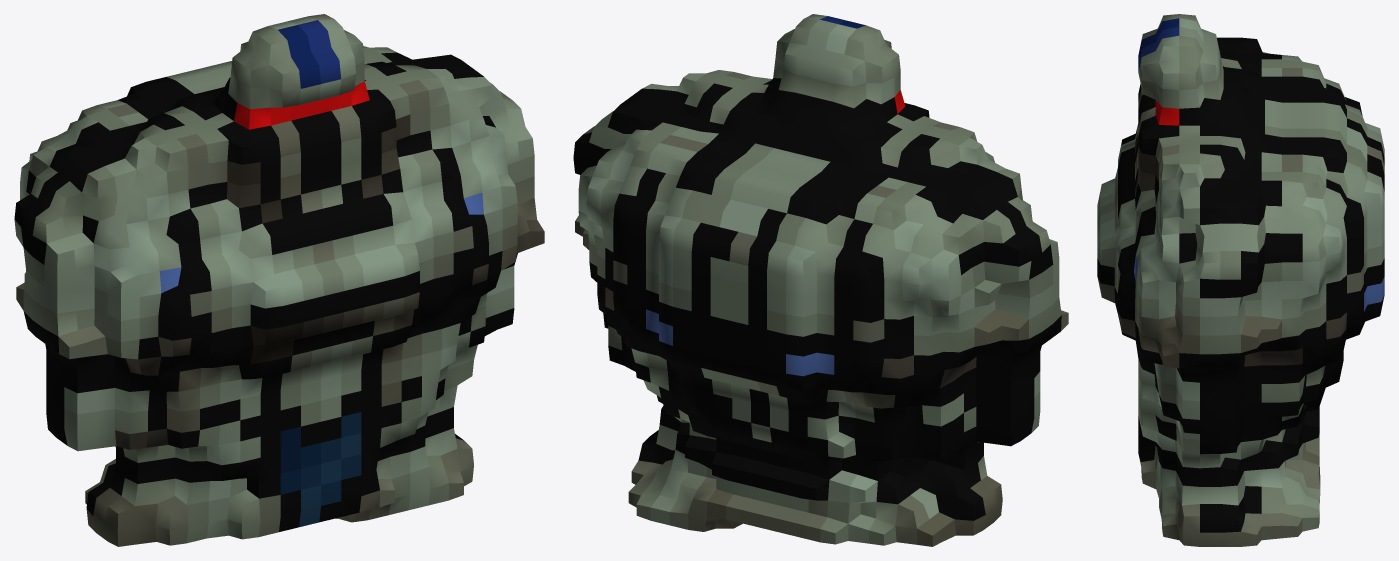
Rendered from Icon_744_01.obj.
3 renders of one model, left to right at view 1: azimuth 30°, elevation 25°; view 2: azimuth 150°, elevation 25°; view 3: azimuth 270°, elevation 25°, orthographic. The views are drawn at different scales.
Bounding box in the file's own units: 2.4 × 2.4 × 1.4.
Materials: 1 (1 with a texture image).
